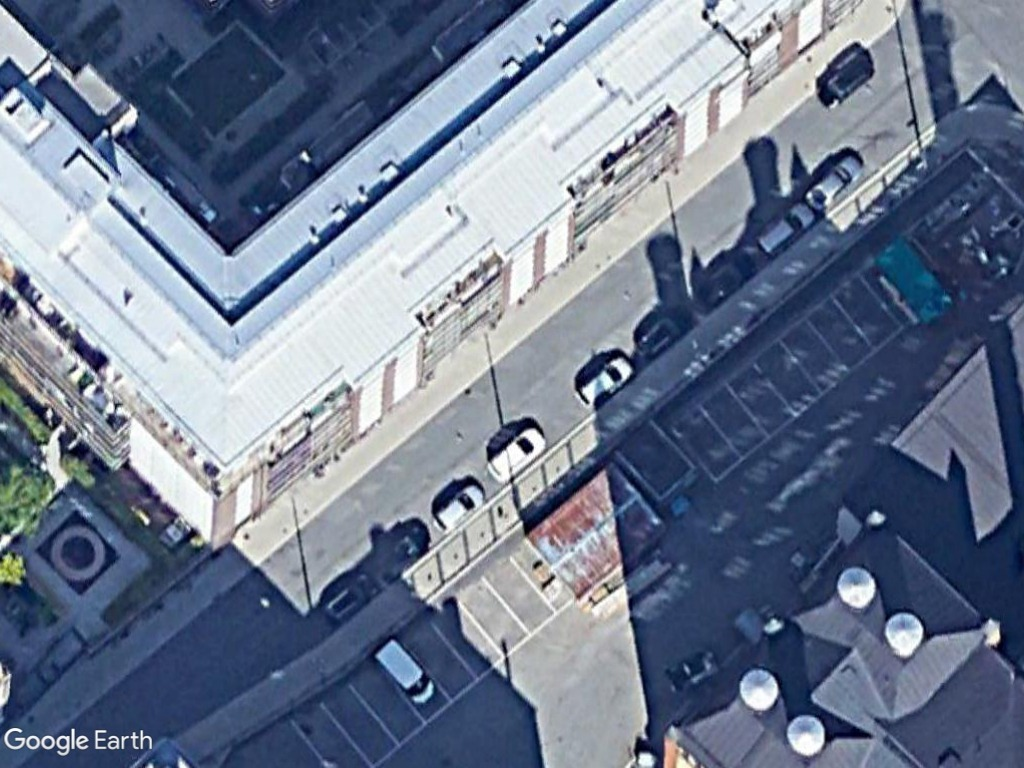car: (800, 147, 870, 219), (480, 421, 547, 494), (570, 343, 638, 414), (811, 48, 880, 116), (319, 560, 384, 626), (754, 196, 818, 262), (431, 478, 486, 541)
van: (365, 633, 444, 709)
